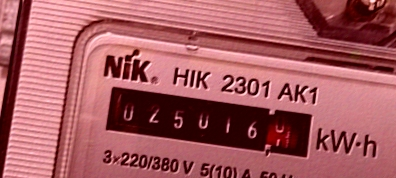0: (196, 106, 213, 131), (121, 99, 137, 123), (273, 112, 287, 134)
1: (221, 109, 235, 135), (272, 135, 282, 147)
2: (147, 100, 163, 125)
5: (171, 107, 185, 129)
6: (244, 115, 261, 142)
screen: (95, 74, 324, 167)
